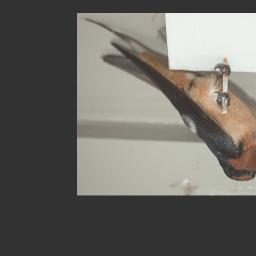Swallow: (81, 21, 256, 182)
